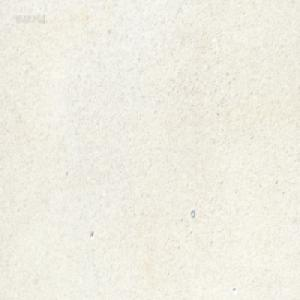Washer: (190, 208, 195, 218)
